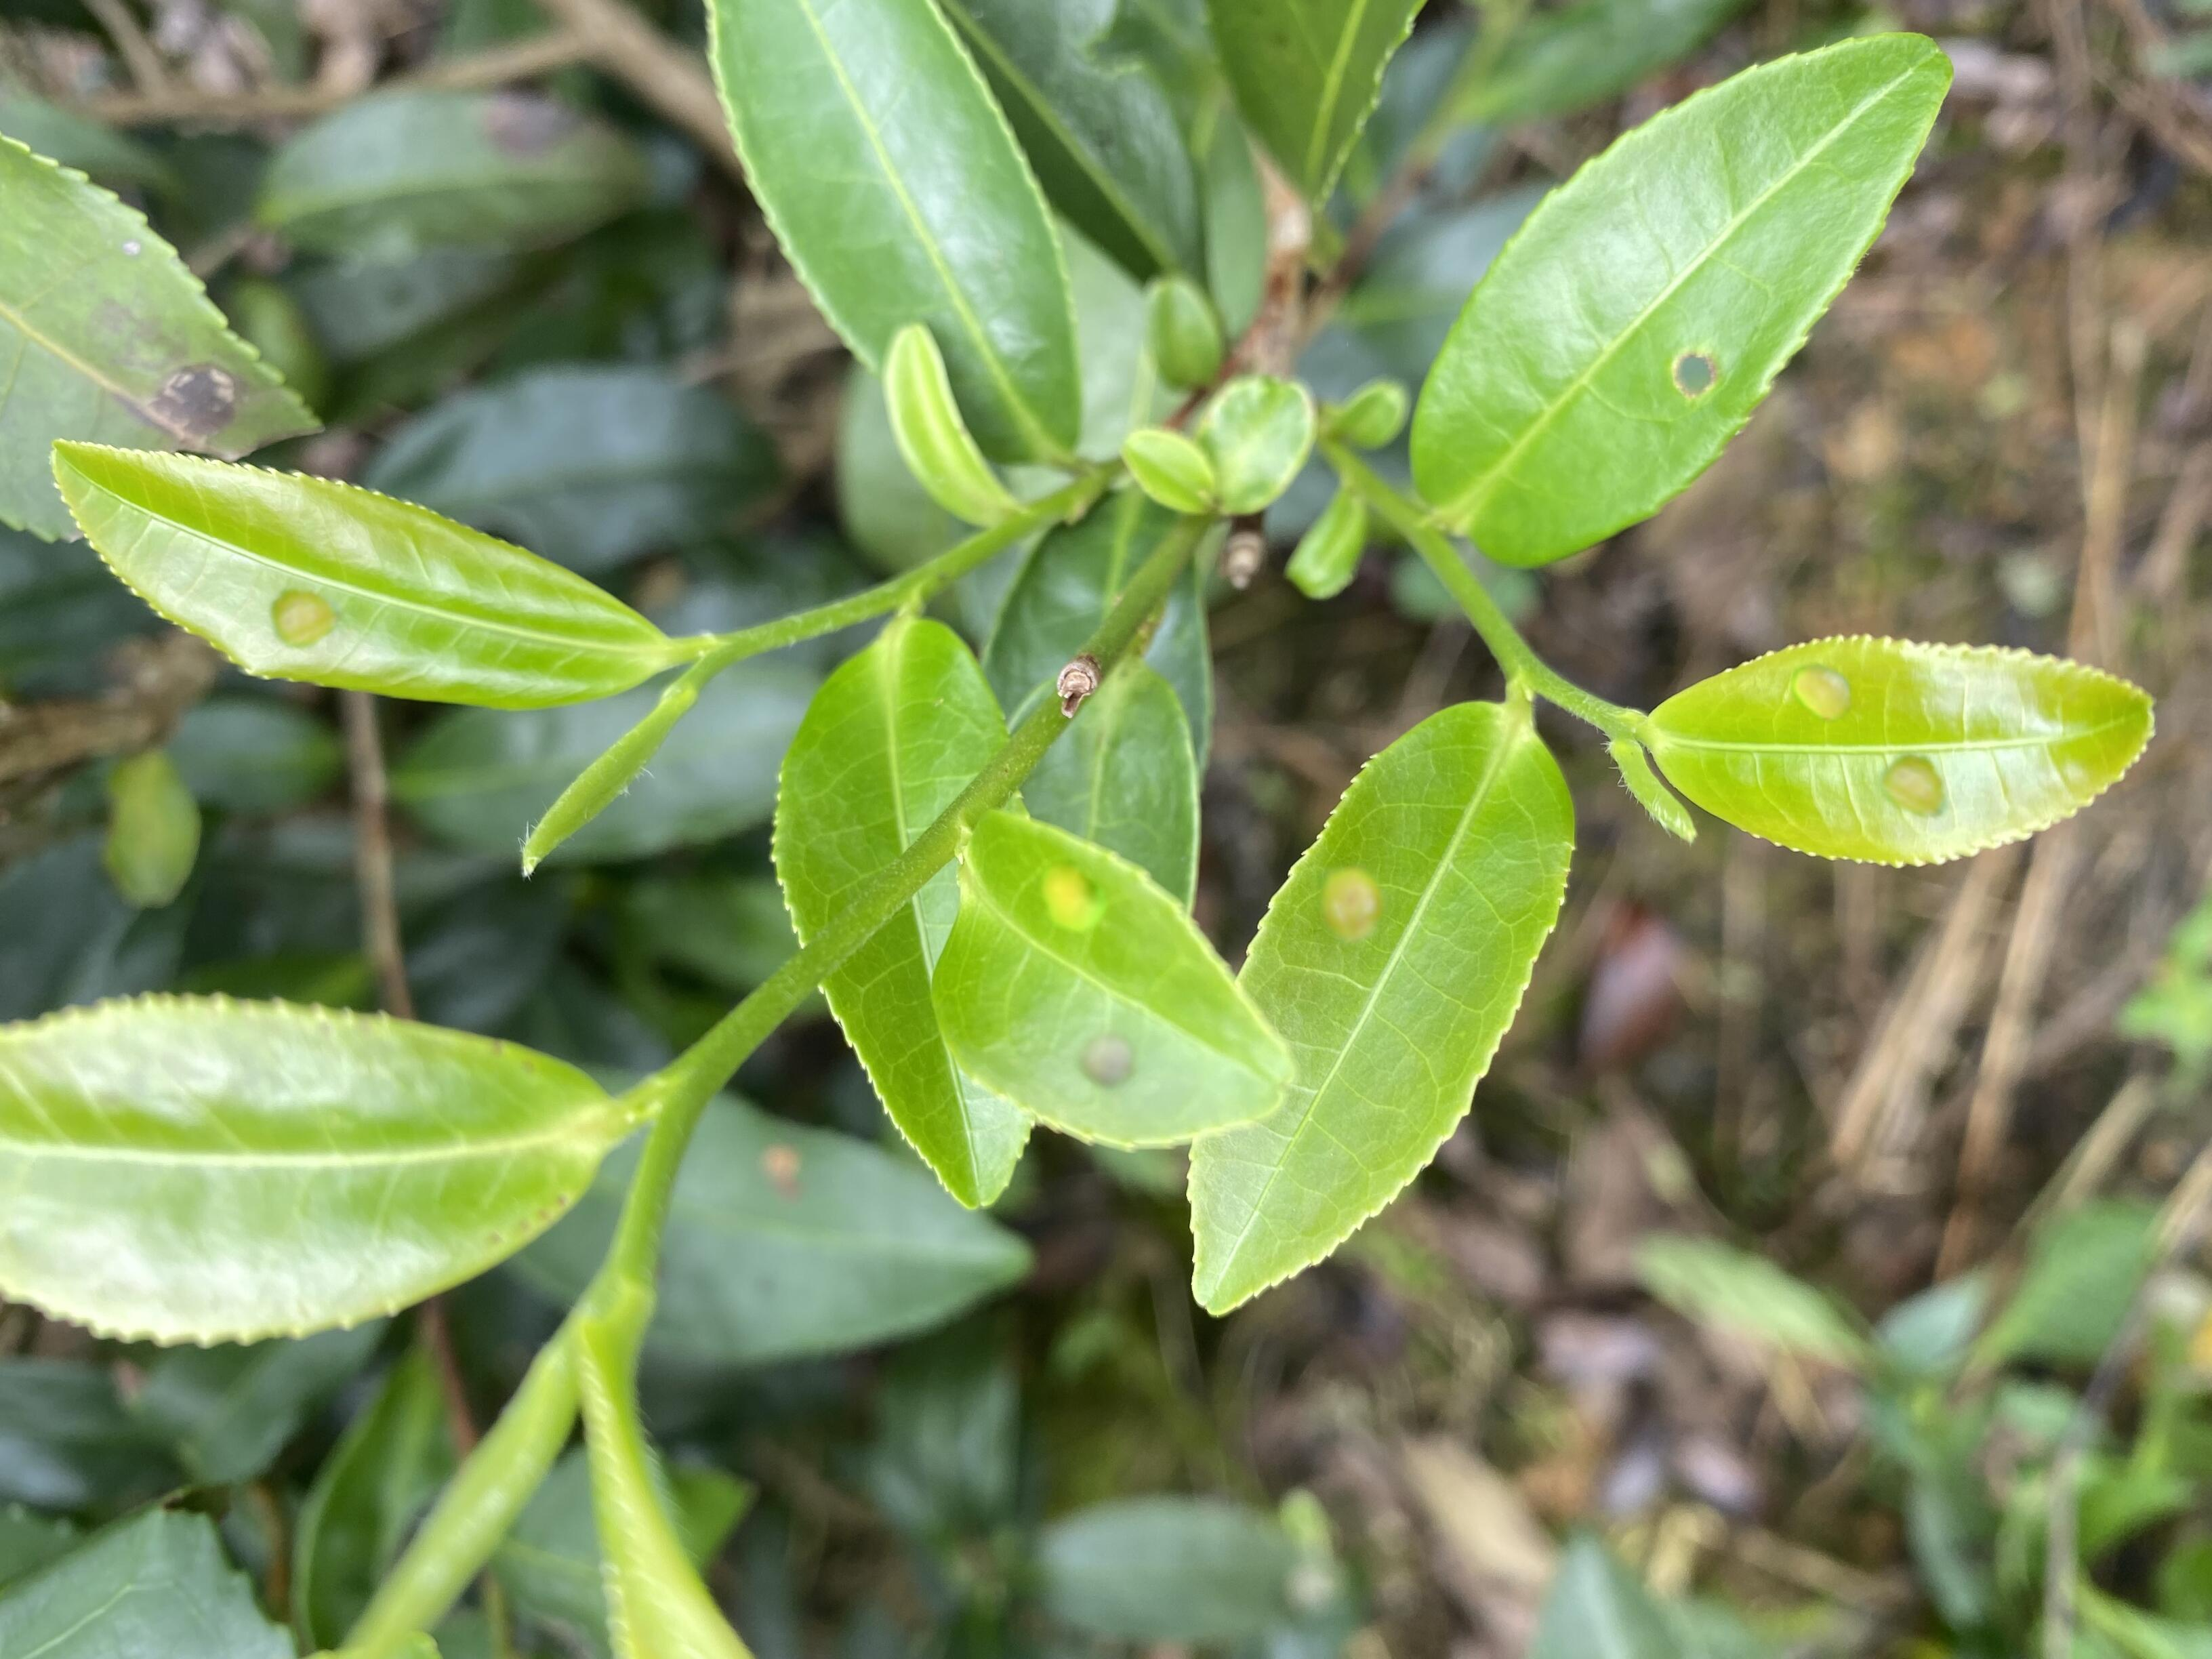chabing_high: (930, 807, 1296, 1154), (1649, 634, 2155, 868)
chabing_low: (1186, 697, 1576, 1314), (49, 436, 667, 714)
chihuo_low: (1404, 30, 1958, 572)
healthy: (705, 3, 1085, 464), (765, 613, 1040, 1209)
tanju_high: (0, 132, 326, 549)
tanju_low: (5, 988, 620, 1351)
